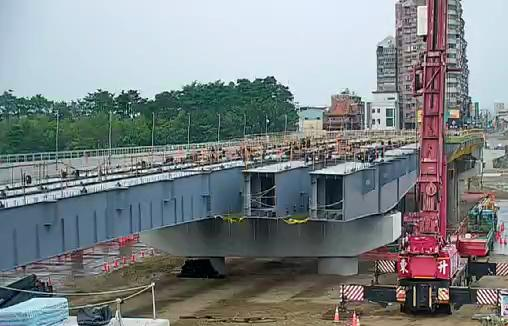Safety Cone: (332, 305, 342, 324), (351, 309, 357, 326), (46, 274, 52, 286), (120, 254, 127, 264), (355, 316, 361, 326), (131, 252, 136, 263), (113, 258, 119, 267), (149, 247, 155, 255), (106, 264, 111, 272), (140, 248, 144, 257), (103, 261, 107, 269)
machinery: (334, 0, 508, 316), (453, 206, 499, 258)
